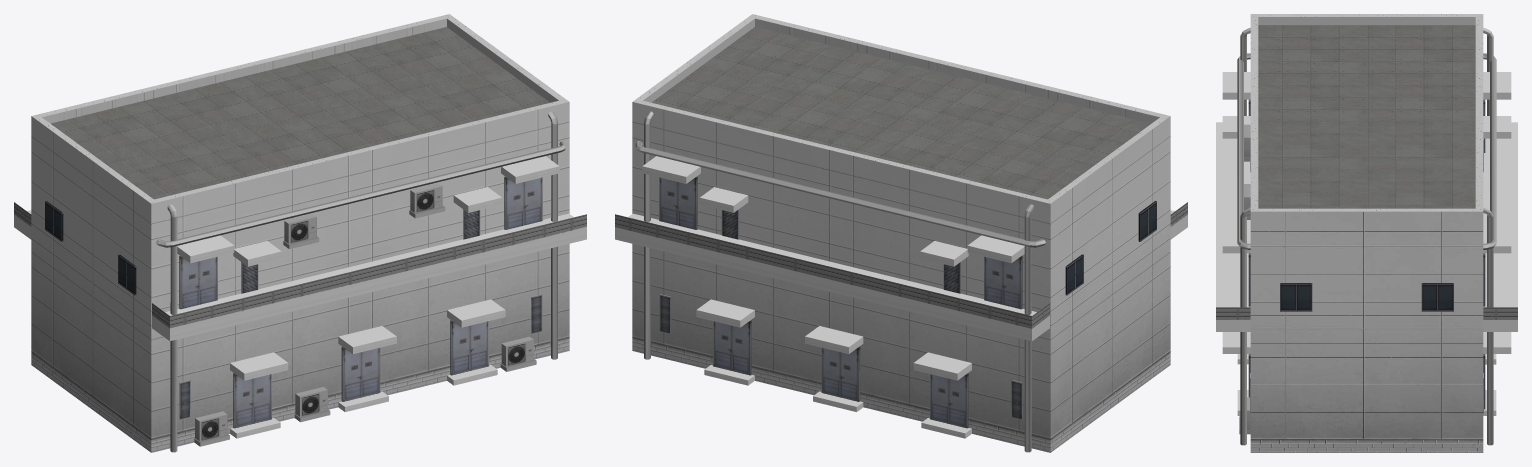
The model's file is 主控室.glb.
3 views of the same model, side by side, from view 1: azimuth 30°, elevation 25°; view 2: azimuth 150°, elevation 25°; view 3: azimuth 270°, elevation 25° (orthographic). The views are drawn at different scales.
Parts seen in each view (by area): view 1: substation_ht_1005_02; view 2: substation_ht_1005_02; view 3: substation_ht_1005_02.
Part boxes in pixels (box(x1,y1,x2,y2)): substation_ht_1005_02: box(14, 14, 586, 452); substation_ht_1005_02: box(615, 14, 1187, 452); substation_ht_1005_02: box(1216, 14, 1517, 452).
Bounding box in the file's own units: 171 × 96.69 × 110.
5 materials, 5 textured.
